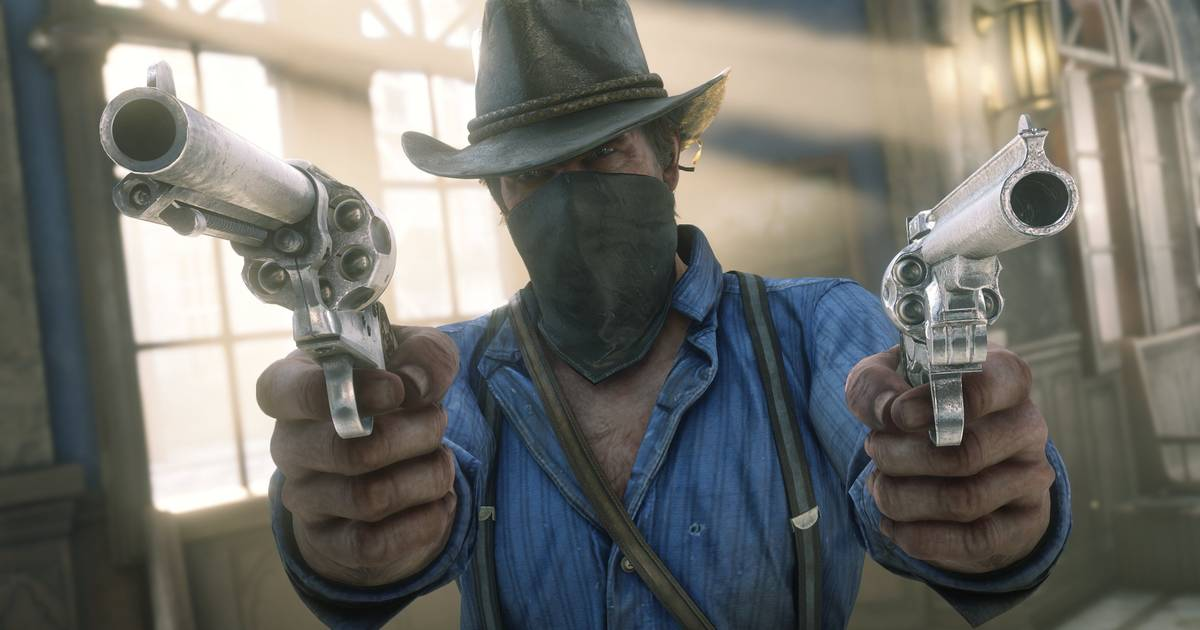Revolver: (64, 49, 471, 475), (870, 110, 1102, 475)
